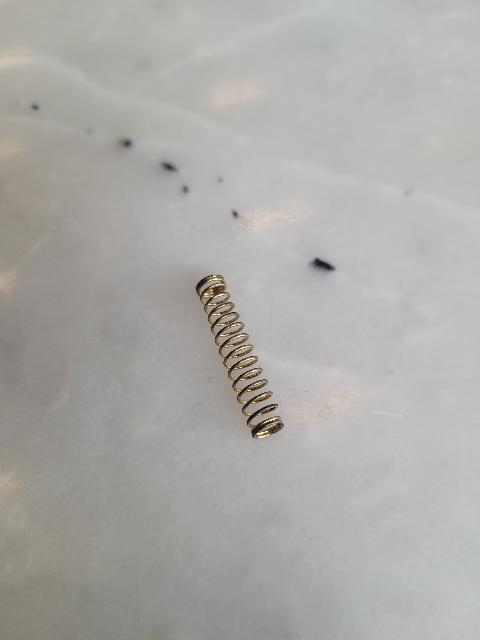Metal: (194, 271, 291, 443)
